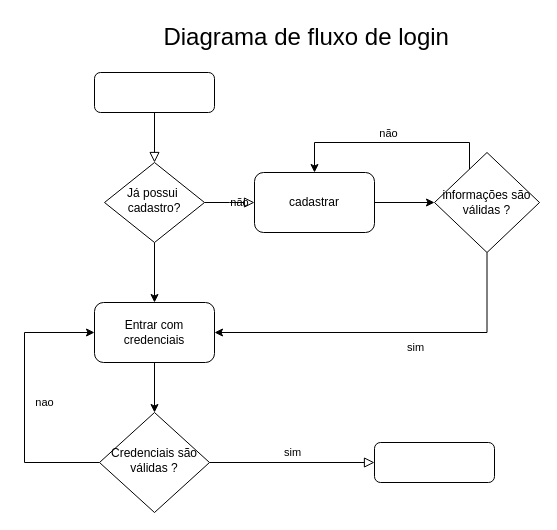
Image size: 557x530. Some labels were removed from this diagram. Here are the shapes that lost their labels. From the top down, the box of each, then its label:
(94, 72, 214, 112): Logar
(374, 442, 494, 482): Acesso
